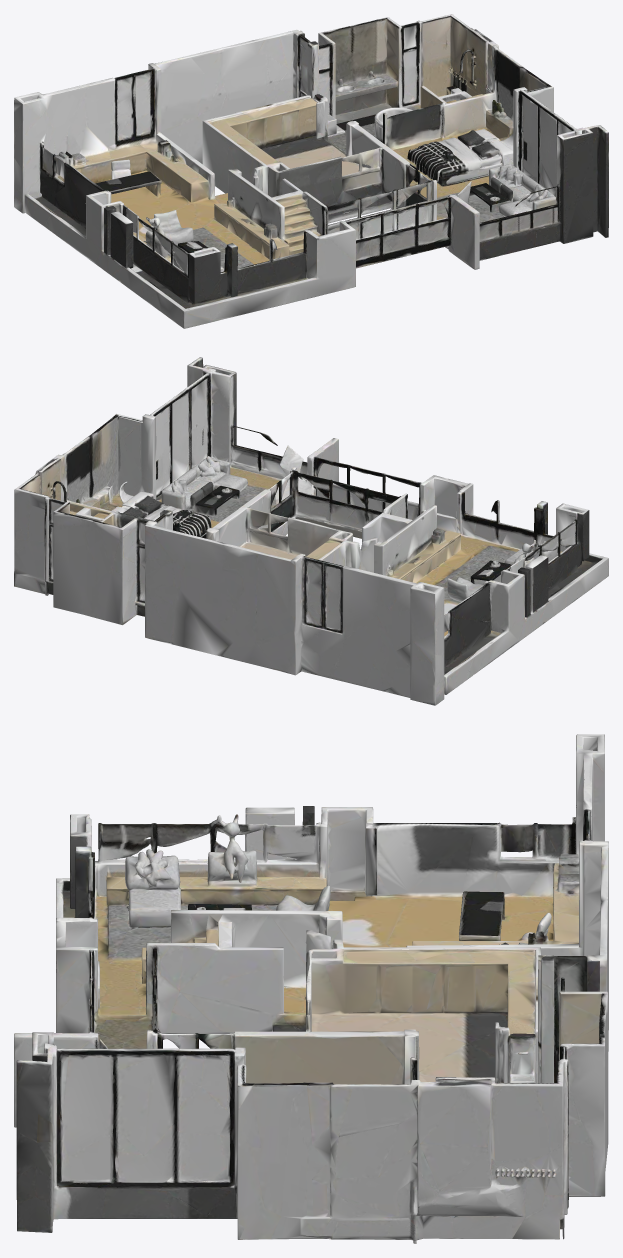
The model's file is floor_plan_5.glb.
3 views of the same model, one above another, from view 1: azimuth 30°, elevation 25°; view 2: azimuth 150°, elevation 25°; view 3: azimuth 270°, elevation 25° (orthographic). The views are drawn at different scales.
Size of the model in its own units: 1.9 by 0.4814 by 1.42.
Materials: 1 (1 with a texture image).
